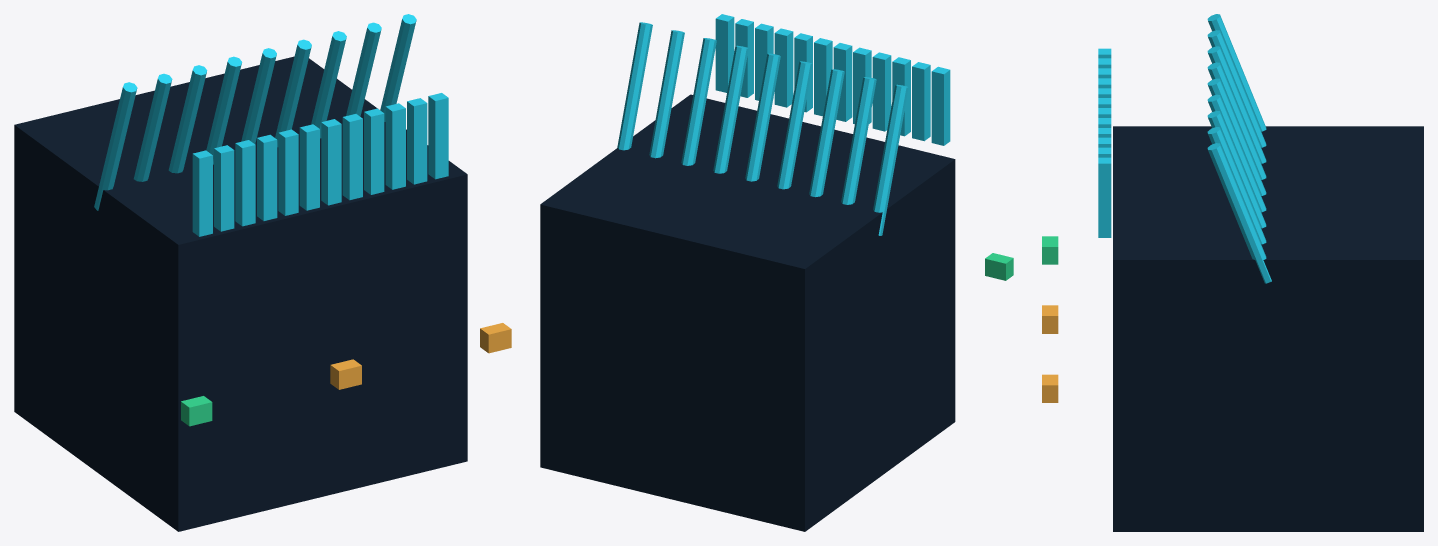
The model's file is 51_L80_LogicOpticalTransmitterInterface.fbx.
3 renders of one model, left to right at view 1: azimuth 30°, elevation 25°; view 2: azimuth 150°, elevation 25°; view 3: azimuth 270°, elevation 25°, orthographic. The views are drawn at different scales.
Visible parts, largest first — view 1: LogicOpticalTransmitterInterface, LogicOpticalTransmitterInterface_Part_0013, LogicOpticalTransmitterInterface_Part_0015, LogicOpticalTransmitterInterface_Part_0014, LogicOpticalTransmitterInterface_Part_0019, LogicOpticalTransmitterInterface_Part_0021, LogicOpticalTransmitterInterface_Part_0018, LogicOpticalTransmitterInterface_Part_0016, LogicOpticalTransmitterInterface_Part_0017, LogicOpticalTransmitterInterface_Part_0020; view 2: LogicOpticalTransmitterInterface, LogicOpticalTransmitterInterface_Part_0013, LogicOpticalTransmitterInterface_Part_0014, LogicOpticalTransmitterInterface_Part_0015, LogicOpticalTransmitterInterface_Part_0017, LogicOpticalTransmitterInterface_Part_0019, LogicOpticalTransmitterInterface_Part_0016, LogicOpticalTransmitterInterface_Part_0018, LogicOpticalTransmitterInterface_Part_0020, LogicOpticalTransmitterInterface_Part_0021; view 3: LogicOpticalTransmitterInterface, LogicOpticalTransmitterInterface_Part_0021, LogicOpticalTransmitterInterface_Part_0014, LogicOpticalTransmitterInterface_Part_0016, LogicOpticalTransmitterInterface_Part_0017, LogicOpticalTransmitterInterface_Part_0013, LogicOpticalTransmitterInterface_Part_0015, LogicOpticalTransmitterInterface_Part_0018, LogicOpticalTransmitterInterface_Part_0020, LogicOpticalTransmitterInterface_Part_0019.
Part boxes in pixels (bbox=[...]): LogicOpticalTransmitterInterface: bbox=[14, 56, 511, 531]; LogicOpticalTransmitterInterface_Part_0013: bbox=[94, 82, 137, 210]; LogicOpticalTransmitterInterface_Part_0015: bbox=[168, 65, 207, 173]; LogicOpticalTransmitterInterface_Part_0014: bbox=[133, 73, 172, 181]; LogicOpticalTransmitterInterface_Part_0019: bbox=[311, 31, 346, 138]; LogicOpticalTransmitterInterface_Part_0021: bbox=[380, 14, 416, 121]; LogicOpticalTransmitterInterface_Part_0018: bbox=[275, 39, 311, 147]; LogicOpticalTransmitterInterface_Part_0016: bbox=[206, 56, 241, 164]; LogicOpticalTransmitterInterface_Part_0017: bbox=[241, 48, 276, 143]; LogicOpticalTransmitterInterface_Part_0020: bbox=[346, 22, 381, 116]; LogicOpticalTransmitterInterface: bbox=[540, 14, 1013, 531]; LogicOpticalTransmitterInterface_Part_0013: bbox=[873, 84, 908, 235]; LogicOpticalTransmitterInterface_Part_0014: bbox=[841, 77, 876, 204]; LogicOpticalTransmitterInterface_Part_0015: bbox=[809, 69, 844, 197]; LogicOpticalTransmitterInterface_Part_0017: bbox=[745, 53, 780, 181]; LogicOpticalTransmitterInterface_Part_0019: bbox=[681, 38, 716, 165]; LogicOpticalTransmitterInterface_Part_0016: bbox=[777, 61, 812, 189]; LogicOpticalTransmitterInterface_Part_0018: bbox=[713, 45, 748, 173]; LogicOpticalTransmitterInterface_Part_0020: bbox=[649, 30, 684, 158]; LogicOpticalTransmitterInterface_Part_0021: bbox=[617, 22, 652, 150]; LogicOpticalTransmitterInterface: bbox=[1042, 48, 1423, 531]; LogicOpticalTransmitterInterface_Part_0021: bbox=[1207, 143, 1271, 283]; LogicOpticalTransmitterInterface_Part_0014: bbox=[1207, 30, 1266, 147]; LogicOpticalTransmitterInterface_Part_0016: bbox=[1207, 62, 1266, 179]; LogicOpticalTransmitterInterface_Part_0017: bbox=[1207, 78, 1266, 195]; LogicOpticalTransmitterInterface_Part_0013: bbox=[1207, 14, 1266, 131]; LogicOpticalTransmitterInterface_Part_0015: bbox=[1207, 46, 1266, 163]; LogicOpticalTransmitterInterface_Part_0018: bbox=[1207, 94, 1266, 212]; LogicOpticalTransmitterInterface_Part_0020: bbox=[1207, 127, 1266, 244]; LogicOpticalTransmitterInterface_Part_0019: bbox=[1207, 110, 1266, 228].
Size of the model in its own units: 64.6 by 77.92 by 70.
